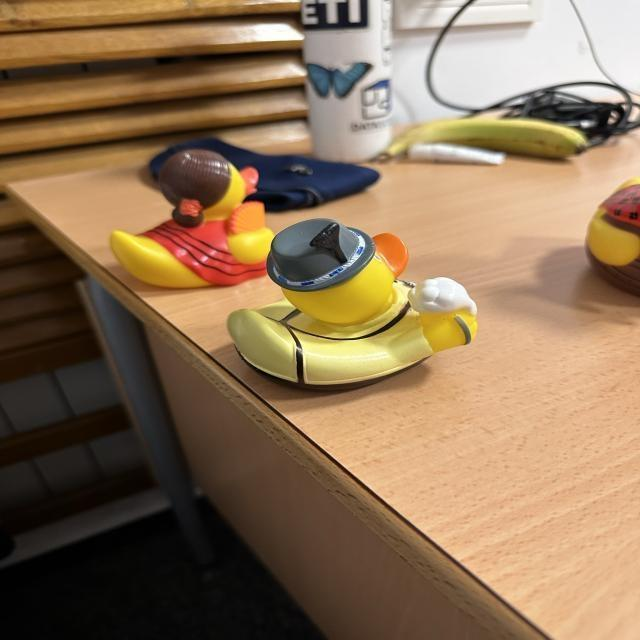rubber-duck: (227, 217, 475, 385), (109, 148, 272, 286)
